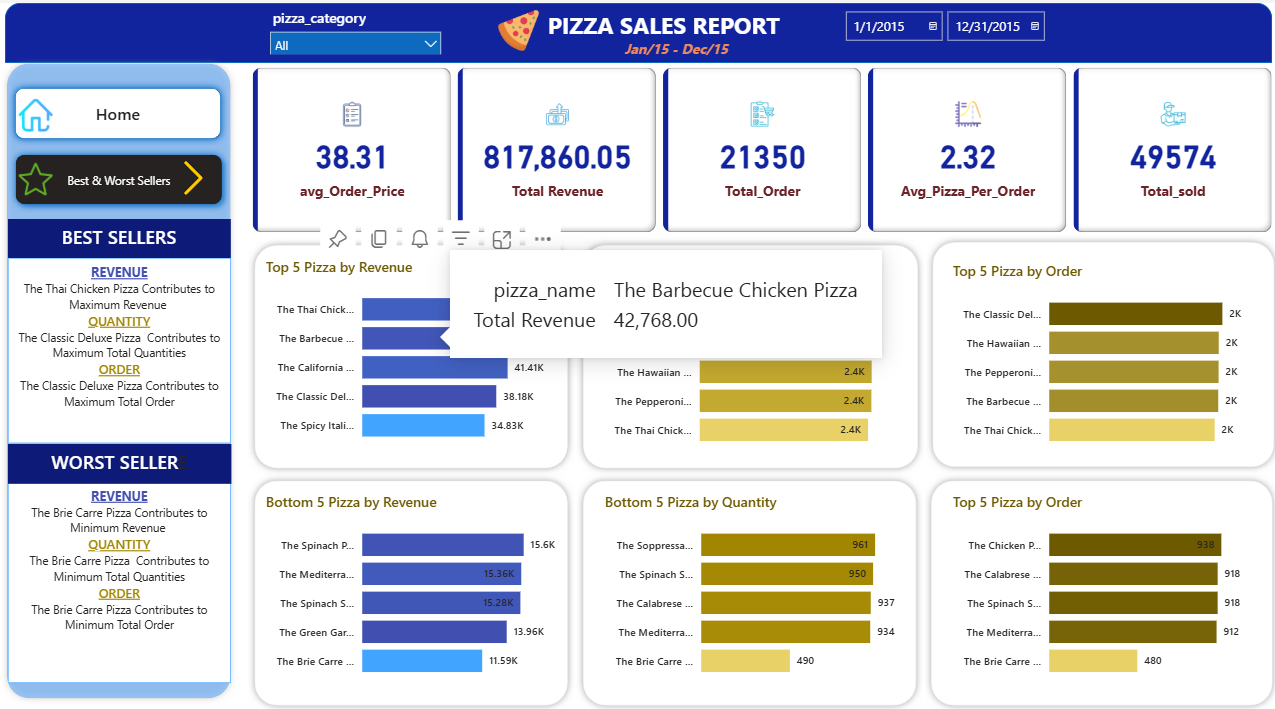

This screenshot's page, from the dashboard's own definition file:
{"tool":"powerbi","page":{"name":"Best & Worst Sellers","canvas":[1500,820],"ordinal":1},"visuals":[{"type":"cardVisual","fields":{"Data":["pizza_sales.avg_Order_Price","pizza_sales.Total Revenue","pizza_sales.Total_Order","pizza_sales.Avg_Pizza_Per_Order","pizza_sales.Total_sold"]},"box":[298,69,1190.4,200],"z":0},{"type":"shape","box":[17.3,0,1463.5,69.2],"z":1000},{"type":"textbox","box":[640,1,301.9,55.8],"z":2000},{"type":"textbox","box":[727.1,35.7,150,34.3],"z":3000},{"type":"image","box":[494.2,1.9,232.7,59.6],"z":4000},{"type":"shape","box":[298.1,544.2,376.9,275],"z":5000},{"type":"shape","box":[677,544.2,400,275],"z":6000},{"type":"shape","box":[1078.8,544.2,409.6,275],"z":7000},{"type":"shape","box":[11.5,61.5,273.1,748.1],"z":8000},{"type":"textbox","box":[20,249,257,46.2],"z":9000},{"type":"textbox","box":[20,552,257,232.7],"z":10000},{"type":"textbox","box":[20,295.1,257,213.9],"z":11000},{"type":"textbox","box":[20,510,257.7,46.2],"z":12000},{"type":"slicer","fields":{"Values":["pizza_sales.pizza_category"]},"box":[313.5,0,217.6,59],"z":13000},{"type":"slicer","fields":{"Values":["pizza_sales.order_date"]},"box":[975.5,0,261.9,68.2],"z":14000},{"type":"shape","box":[1080.8,269.2,409.6,275],"z":15000},{"type":"shape","box":[676.9,271.2,401.9,273.1],"z":16000},{"type":"shape","box":[298.1,271.2,376.9,273.1],"z":17000},{"type":"barChart","title":"Top 5 Pizza by Revenue","fields":{"Y":["pizza_sales.Total Revenue"],"Category":["pizza_sales.pizza_name"]},"box":[313.5,292.3,346.2,226.9],"z":18000},{"type":"barChart","title":"Bottom 5 Pizza by Revenue","fields":{"Y":["pizza_sales.Total Revenue"],"Category":["pizza_sales.pizza_name"]},"box":[313.5,565.4,346.2,226.9],"z":19000},{"type":"barChart","title":"Top 5 Pizza by Quantity","fields":{"Y":["pizza_sales.Total_sold"],"Category":["pizza_sales.pizza_name"]},"box":[703.8,298.1,346.2,226.9],"z":20000},{"type":"barChart","title":"Top 5 Pizza by Order","fields":{"Category":["pizza_sales.pizza_name"],"Y":["pizza_sales.Total_Order"]},"box":[1107.7,298.1,346.2,226.9],"z":21000},{"type":"barChart","title":"Bottom 5 Pizza by Quantity","fields":{"Y":["pizza_sales.Total_sold"],"Category":["pizza_sales.pizza_name"]},"box":[705.8,565.4,346.2,226.9],"z":22000},{"type":"barChart","title":"Top 5 Pizza by Order","fields":{"Category":["pizza_sales.pizza_name"],"Y":["pizza_sales.Total_Order"]},"box":[1107.7,565.4,346.2,226.9],"z":23000},{"type":"pageNavigator","box":[20.3,166,256.3,75.6],"z":24000},{"type":"pageNavigator","box":[20.3,90.4,254.5,75.6],"z":25000},{"type":"image","box":[27.7,103.3,49.8,51.6],"z":26000},{"type":"image","box":[210.2,176,50,50],"z":27000},{"type":"image","box":[27.7,178.9,49.8,49.8],"z":28000}]}

Visuals, with their boxes in screenshot pixels (x1, y1, x2, y2), scaled from the page's 1500x820 canvas onto the 1275x709 screenshot:
cardVisual - pizza_sales.avg_Order_Price x pizza_sales.Total Revenue: bbox=(253, 60, 1265, 233)
shape: bbox=(15, 0, 1259, 60)
textbox: bbox=(544, 1, 801, 49)
textbox: bbox=(618, 31, 746, 61)
image: bbox=(420, 2, 618, 53)
shape: bbox=(253, 471, 574, 708)
shape: bbox=(575, 471, 915, 708)
shape: bbox=(917, 471, 1265, 708)
shape: bbox=(10, 53, 242, 700)
textbox: bbox=(17, 215, 235, 255)
textbox: bbox=(17, 477, 235, 678)
textbox: bbox=(17, 255, 235, 440)
textbox: bbox=(17, 441, 236, 481)
slicer - pizza_sales.pizza_category: bbox=(266, 0, 451, 51)
slicer - pizza_sales.order_date: bbox=(829, 0, 1052, 59)
shape: bbox=(919, 233, 1267, 471)
shape: bbox=(575, 234, 917, 471)
shape: bbox=(253, 234, 574, 471)
"Top 5 Pizza by Revenue" barChart: bbox=(266, 253, 561, 449)
"Bottom 5 Pizza by Revenue" barChart: bbox=(266, 489, 561, 685)
"Top 5 Pizza by Quantity" barChart: bbox=(598, 258, 892, 454)
"Top 5 Pizza by Order" barChart: bbox=(942, 258, 1236, 454)
"Bottom 5 Pizza by Quantity" barChart: bbox=(600, 489, 894, 685)
"Top 5 Pizza by Order" barChart: bbox=(942, 489, 1236, 685)
pageNavigator: bbox=(17, 144, 235, 209)
pageNavigator: bbox=(17, 78, 234, 144)
image: bbox=(24, 89, 66, 134)
image: bbox=(179, 152, 221, 195)
image: bbox=(24, 155, 66, 198)
